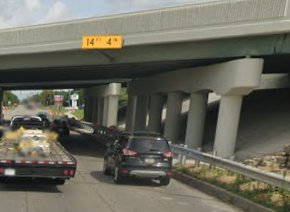1: (85, 37, 90, 46)
4: (89, 36, 95, 46), (106, 36, 112, 46)
overheadsign: (82, 35, 123, 49)
